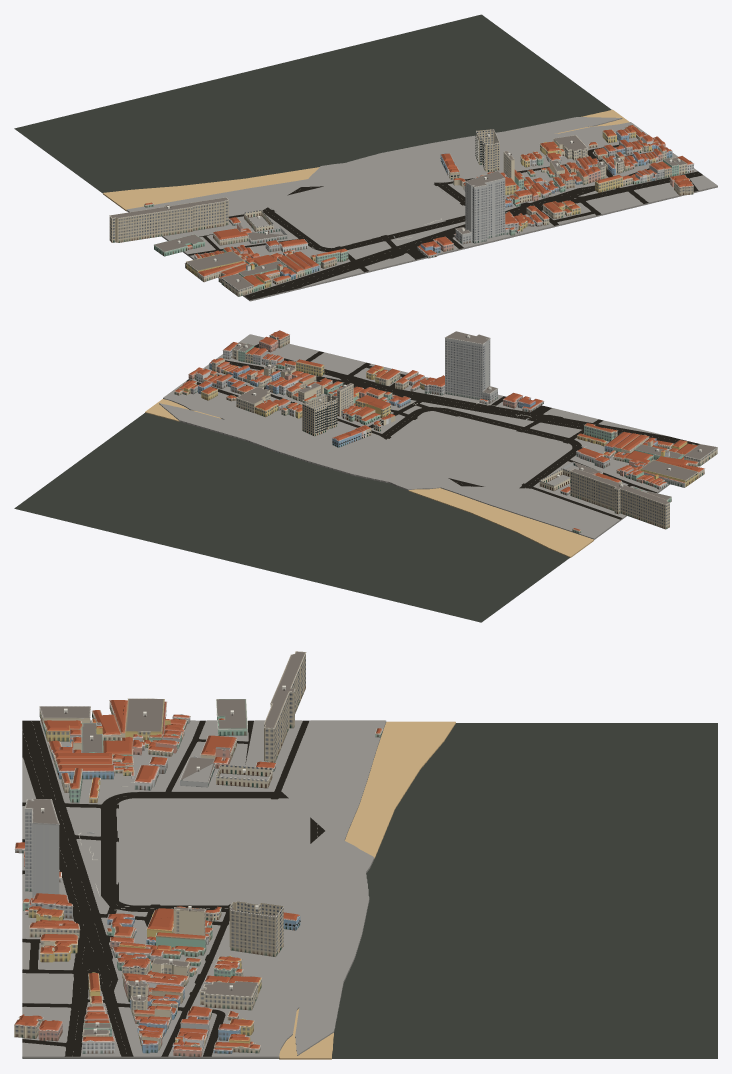
The model's file is ENTORNO_PONTE_INGLESES.fbx.
3 renders of one model, top to bottom at view 1: azimuth 30°, elevation 25°; view 2: azimuth 150°, elevation 25°; view 3: azimuth 270°, elevation 25°, orthographic. The views are drawn at different scales.
Parts seen in each view (by area): view 1: Agua_Mar, Fortaleza_Predios, Calcadas_Base.001, Esplanada_Castelao, Ruas_Asfalto.001, Areia_Praia; view 2: Agua_Mar, Fortaleza_Predios, Calcadas_Base.001, Esplanada_Castelao, Ruas_Asfalto.001, Areia_Praia; view 3: Agua_Mar, Fortaleza_Predios, Calcadas_Base.001, Esplanada_Castelao, Ruas_Asfalto.001, Areia_Praia.
Boxes of the visible parts, left/top/right/bottom form: Agua_Mar: left=14, top=14, right=611, bottom=259; Fortaleza_Predios: left=109, top=125, right=693, bottom=296; Calcadas_Base.001: left=126, top=117, right=717, bottom=295; Esplanada_Castelao: left=266, top=167, right=465, bottom=248; Ruas_Asfalto.001: left=126, top=118, right=717, bottom=301; Areia_Praia: left=103, top=109, right=629, bottom=211; Agua_Mar: left=14, top=413, right=569, bottom=622; Fortaleza_Predios: left=174, top=330, right=717, bottom=533; Calcadas_Base.001: left=159, top=334, right=671, bottom=538; Esplanada_Castelao: left=368, top=411, right=572, bottom=491; Ruas_Asfalto.001: left=159, top=344, right=699, bottom=539; Areia_Praia: left=145, top=399, right=593, bottom=557; Agua_Mar: left=23, top=723, right=717, bottom=1058; Fortaleza_Predios: left=14, top=651, right=382, bottom=1056; Calcadas_Base.001: left=22, top=720, right=385, bottom=1056; Esplanada_Castelao: left=119, top=799, right=307, bottom=904; Ruas_Asfalto.001: left=22, top=720, right=386, bottom=1058; Areia_Praia: left=279, top=721, right=455, bottom=1059.
Bounding box in the file's own units: 660 × 74.05 × 531.
